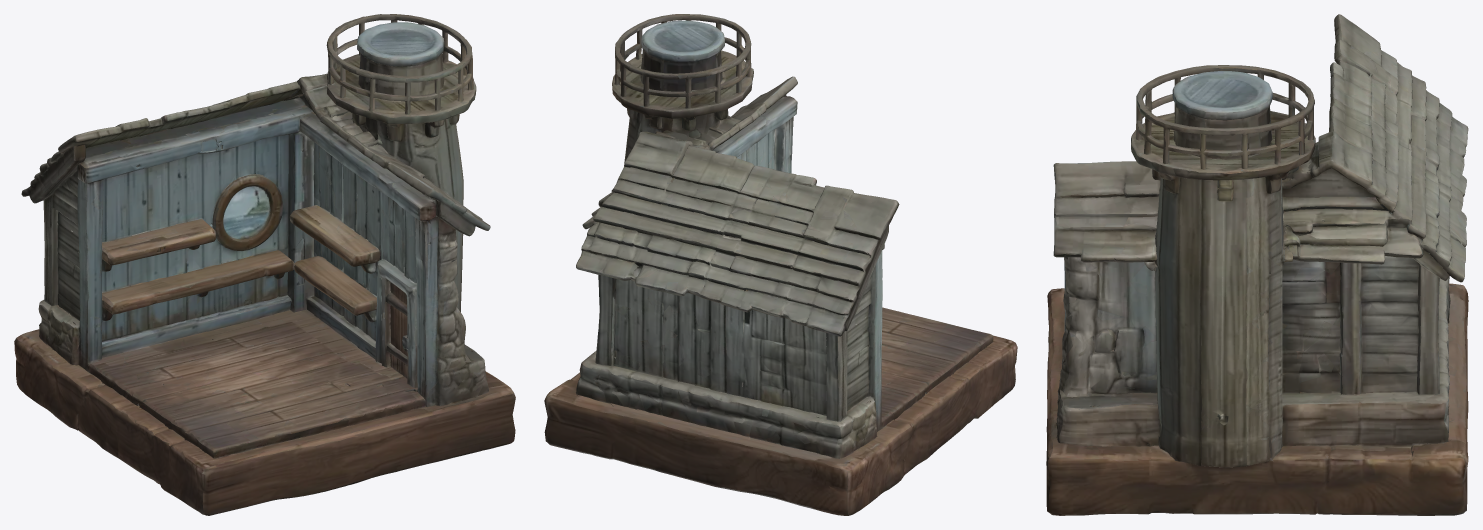
File: room-sea.glb
The picture shows the model from 3 angles, left to right: view 1: azimuth 30°, elevation 25°; view 2: azimuth 150°, elevation 25°; view 3: azimuth 270°, elevation 25°; orthographic projection. The views are drawn at different scales.
Parts seen in each view (by area): view 1: geometry_0; view 2: geometry_0; view 3: geometry_0.
Part boxes in pixels (x1=…): geometry_0: x1=14, y1=14, x2=515, y2=515; geometry_0: x1=544, y1=14, x2=1017, y2=515; geometry_0: x1=1046, y1=14, x2=1468, y2=515.
Bounding box in the file's own units: 0.35 × 0.3499 × 0.328.
1 material, 1 textured.
